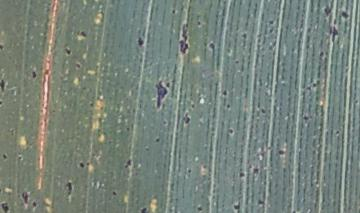tarspot: (148, 74, 175, 110), (175, 20, 193, 59), (178, 108, 195, 129), (18, 184, 30, 209), (62, 178, 76, 198), (61, 43, 78, 59), (119, 156, 136, 171), (28, 64, 41, 82), (326, 26, 340, 42), (205, 37, 218, 54), (229, 200, 245, 213), (253, 195, 268, 208), (1, 196, 12, 213), (251, 162, 261, 179), (275, 146, 288, 159), (266, 15, 277, 30), (323, 3, 333, 19), (75, 27, 88, 39), (134, 35, 146, 48), (338, 8, 351, 20), (237, 32, 251, 42), (301, 111, 311, 125), (76, 159, 86, 172), (1, 76, 8, 94), (136, 204, 150, 213), (259, 104, 268, 118), (13, 152, 24, 163), (226, 126, 237, 137), (185, 164, 193, 179), (195, 201, 205, 213), (223, 100, 235, 110), (153, 133, 162, 146), (221, 87, 230, 100), (168, 6, 179, 16), (73, 60, 83, 71), (124, 123, 134, 134), (87, 98, 96, 110), (236, 170, 246, 180), (2, 150, 9, 163), (334, 126, 341, 139), (315, 75, 322, 88), (30, 198, 39, 208), (233, 57, 242, 67), (109, 189, 120, 197), (317, 48, 325, 59), (187, 102, 198, 110), (1, 41, 7, 55), (161, 117, 168, 127), (1, 98, 7, 109), (304, 83, 312, 91)
